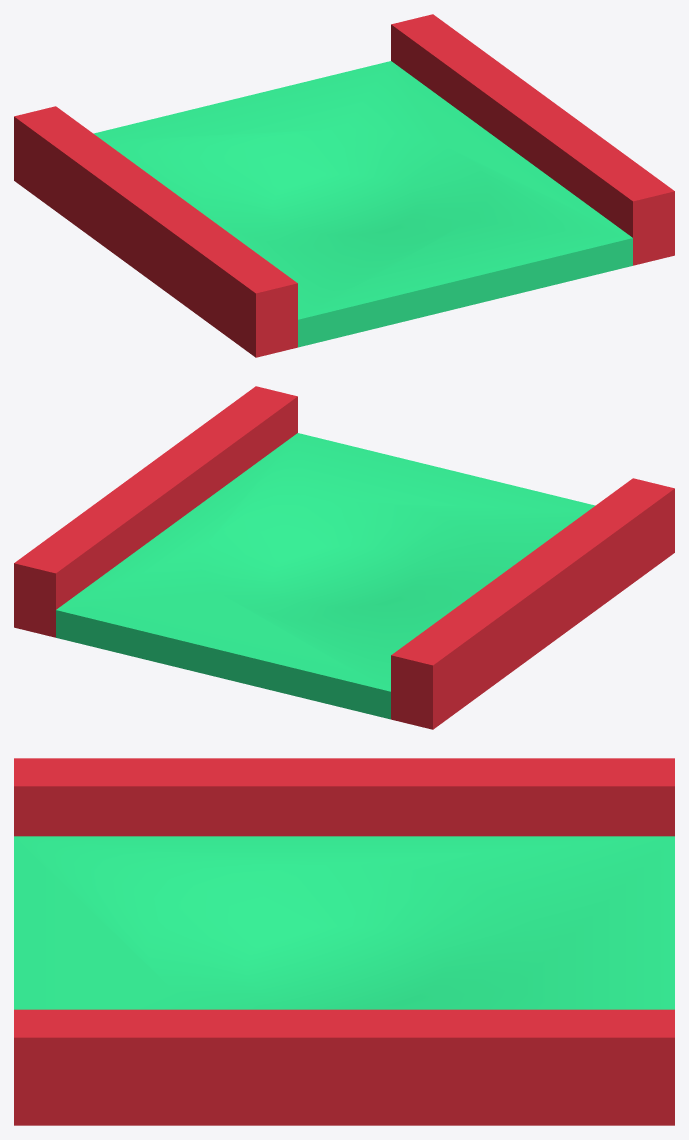
File: bumpDownWalls.fbx
3 renders of one model, top to bottom at view 1: azimuth 30°, elevation 25°; view 2: azimuth 150°, elevation 25°; view 3: azimuth 270°, elevation 25°, orthographic. The views are drawn at different scales.
Visible parts, largest first — view 1: bumpDownWalls; view 2: bumpDownWalls; view 3: bumpDownWalls.
Part boxes in pixels (x1,y1,x2,y2): bumpDownWalls: [14, 14, 674, 357]; bumpDownWalls: [14, 386, 674, 729]; bumpDownWalls: [14, 758, 674, 1125].
Size of the model in its own units: 10 by 1.47 by 10.
